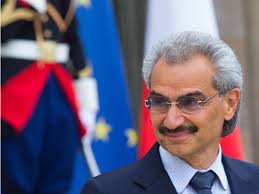middle_eastern_male: (149, 48, 228, 160)
